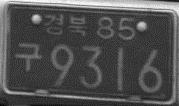1: (115, 45, 125, 92)
3: (80, 44, 103, 89)
5: (117, 16, 136, 42)
6: (137, 47, 162, 93)
8: (96, 16, 115, 39)
9: (50, 43, 74, 88)
경북_O: (43, 12, 88, 38)
구: (13, 41, 43, 73)
